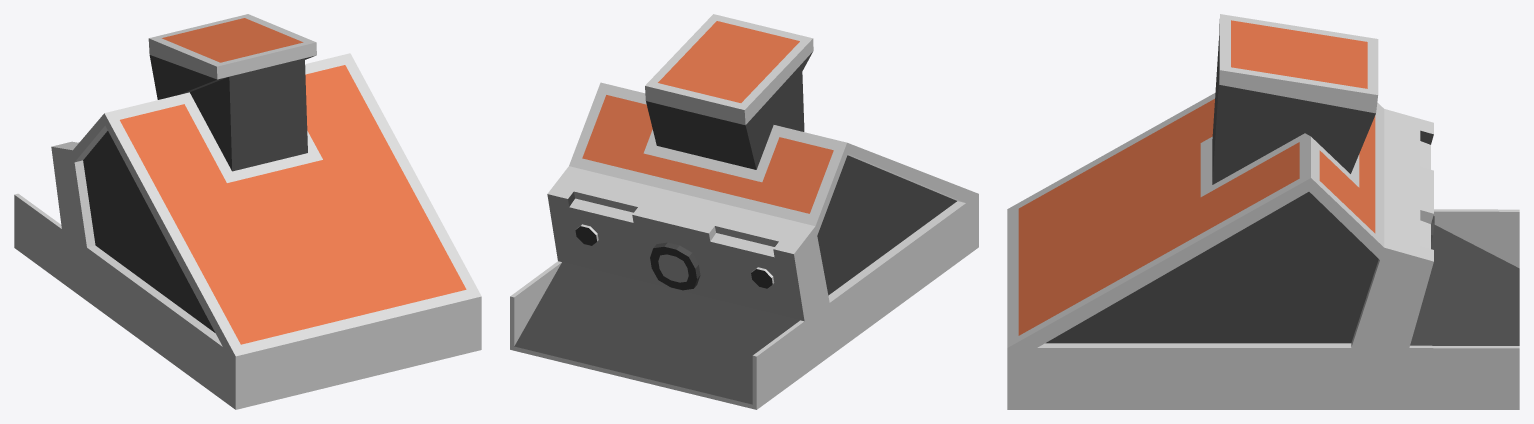
Rendered from Pola.fbx.
3 renders of one model, left to right at view 1: azimuth 30°, elevation 25°; view 2: azimuth 150°, elevation 25°; view 3: azimuth 270°, elevation 25°, orthographic. The views are drawn at different scales.
Parts seen in each view (by area): view 1: Пола; view 2: Пола; view 3: Пола.
Part boxes in pixels (x1,y1,x2,y2): Пола: (14,14,481,409); Пола: (510,14,978,409); Пола: (1007,14,1519,409).
Size of the model in its own units: 22.56 by 22.61 by 35.18.
